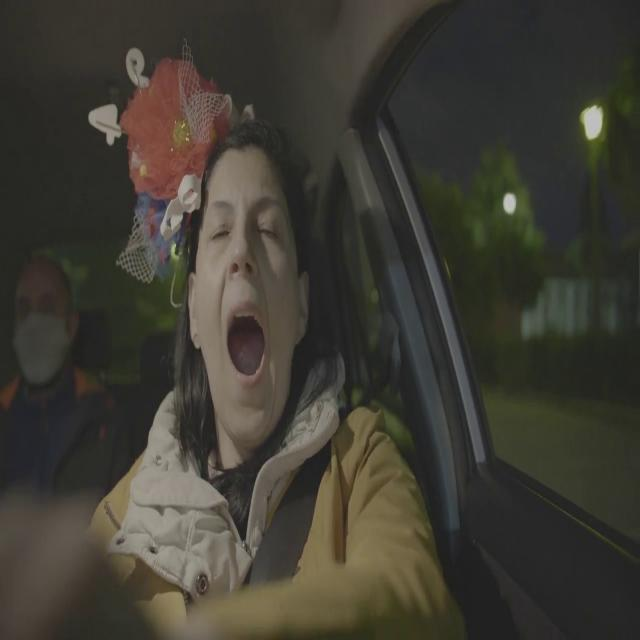open-mouth: (224, 295, 270, 388)
